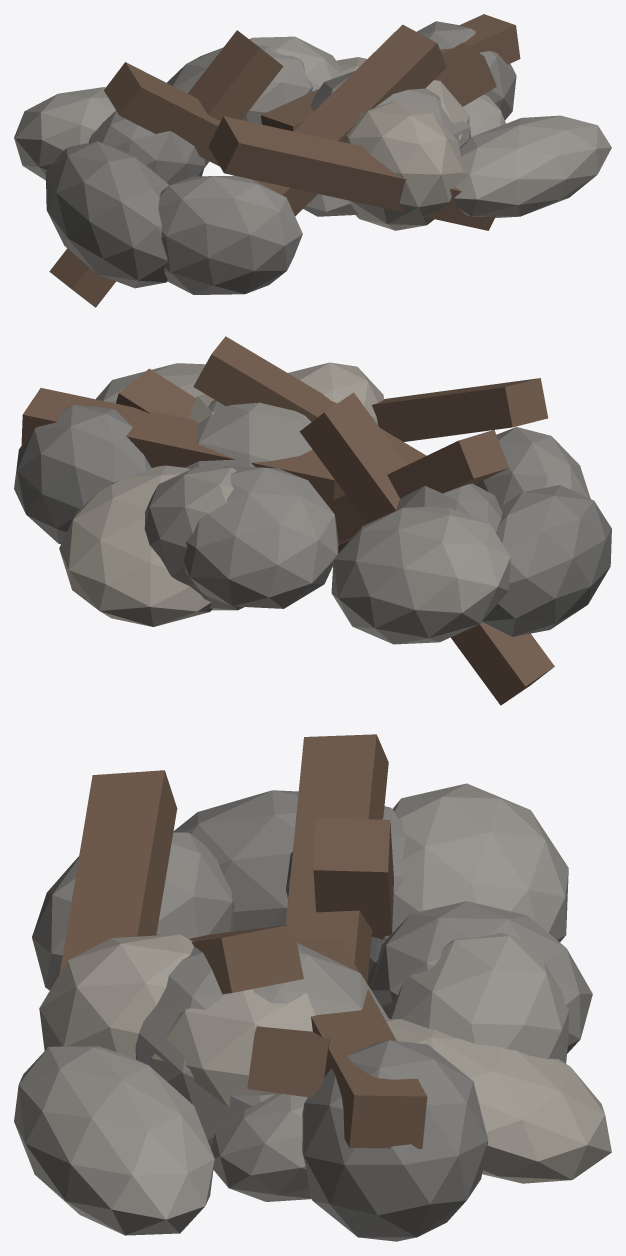
The model's file is debris083-09843c44784e.glb.
3 renders of one model, top to bottom at view 1: azimuth 30°, elevation 25°; view 2: azimuth 150°, elevation 25°; view 3: azimuth 270°, elevation 25°, orthographic. The views are drawn at different scales.
Visible parts, largest first — view 1: stone_0, stone_10, stone_13, timber_5, stone_11, timber_0, timber_4, timber_1, stone_9, stone_2, stone_8, timber_3 (+7 smaller); view 2: stone_9, stone_8, stone_10, stone_7, timber_4, stone_6, timber_5, timber_3, timber_0, stone_5, stone_12, timber_1 (+5 smaller); view 3: stone_13, stone_6, stone_9, stone_7, stone_5, timber_5, timber_1, stone_11, stone_12, timber_3, stone_10, stone_8 (+7 smaller).
Part boxes in pixels (bbox=[...]): stone_0: bbox=[158, 175, 302, 294]; stone_10: bbox=[45, 141, 168, 288]; stone_13: bbox=[453, 115, 611, 217]; timber_5: bbox=[208, 116, 495, 230]; stone_11: bbox=[344, 101, 463, 230]; timber_0: bbox=[252, 24, 446, 216]; timber_4: bbox=[49, 30, 283, 307]; timber_1: bbox=[104, 62, 220, 166]; stone_9: bbox=[14, 87, 115, 180]; stone_2: bbox=[89, 110, 205, 185]; stone_8: bbox=[167, 44, 312, 124]; timber_3: bbox=[261, 14, 520, 131]; stone_9: bbox=[331, 506, 510, 644]; stone_8: bbox=[183, 465, 338, 608]; stone_10: bbox=[482, 485, 611, 636]; stone_7: bbox=[59, 465, 212, 626]; timber_4: bbox=[299, 392, 554, 705]; stone_6: bbox=[14, 405, 151, 544]; timber_5: bbox=[372, 378, 548, 441]; timber_3: bbox=[21, 388, 345, 503]; timber_0: bbox=[193, 336, 426, 464]; stone_5: bbox=[144, 467, 244, 610]; stone_12: bbox=[185, 399, 330, 469]; timber_1: bbox=[327, 430, 509, 545]; stone_13: bbox=[14, 1046, 214, 1235]; stone_6: bbox=[302, 1040, 488, 1241]; stone_9: bbox=[383, 783, 568, 942]; stone_7: bbox=[386, 1018, 611, 1183]; stone_5: bbox=[382, 932, 569, 1063]; timber_5: bbox=[47, 770, 177, 1047]; timber_1: bbox=[285, 734, 388, 983]; stone_11: bbox=[39, 934, 193, 1059]; stone_12: bbox=[135, 941, 389, 1148]; timber_3: bbox=[296, 938, 427, 1148]; stone_10: bbox=[173, 790, 298, 931]; stone_8: bbox=[370, 901, 592, 1053].
Bounding box in the file's own units: 1.85 × 0.7976 × 1.28.
